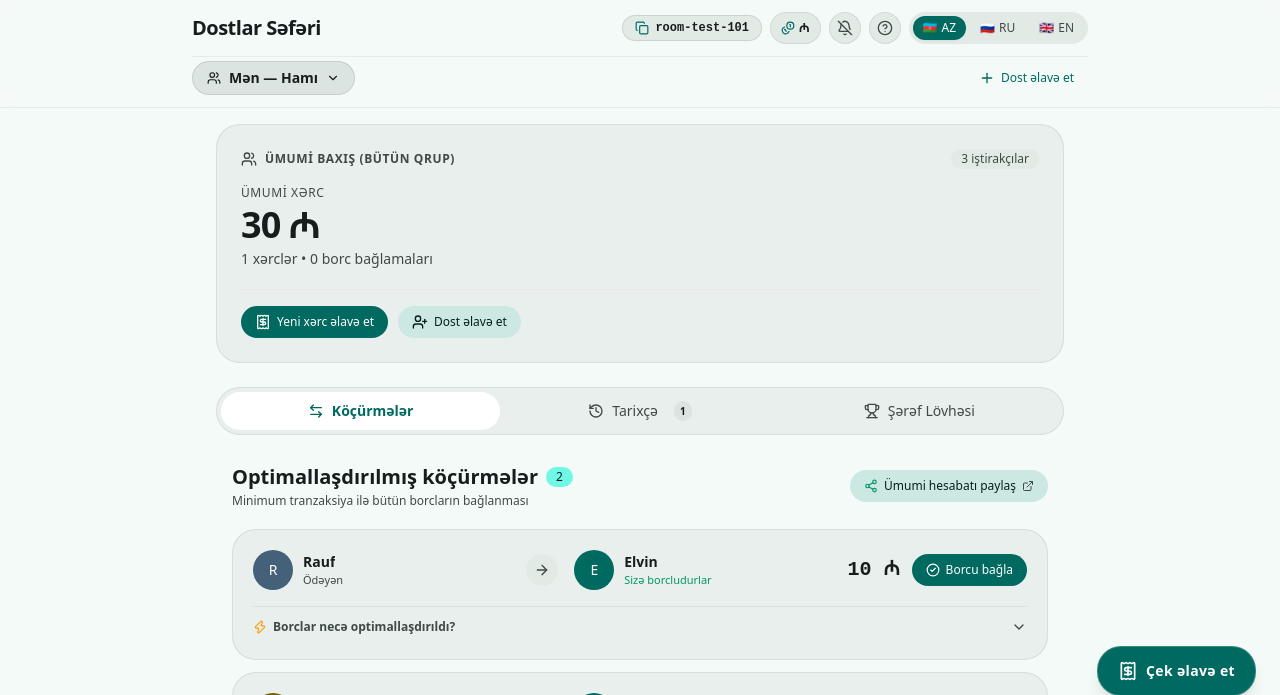
Scenario: App Integration › allows user profile switching from the Header menu
expect the button "Dostlar Səfəri" is shown: met, box top-left (192, 14), bottom-right (321, 42)
Note: Find profile switcher button: "Mən — Hamı" initially
Click the button "Mən — Hamı": point(274, 78) top-left (192, 61), bottom-right (355, 95)
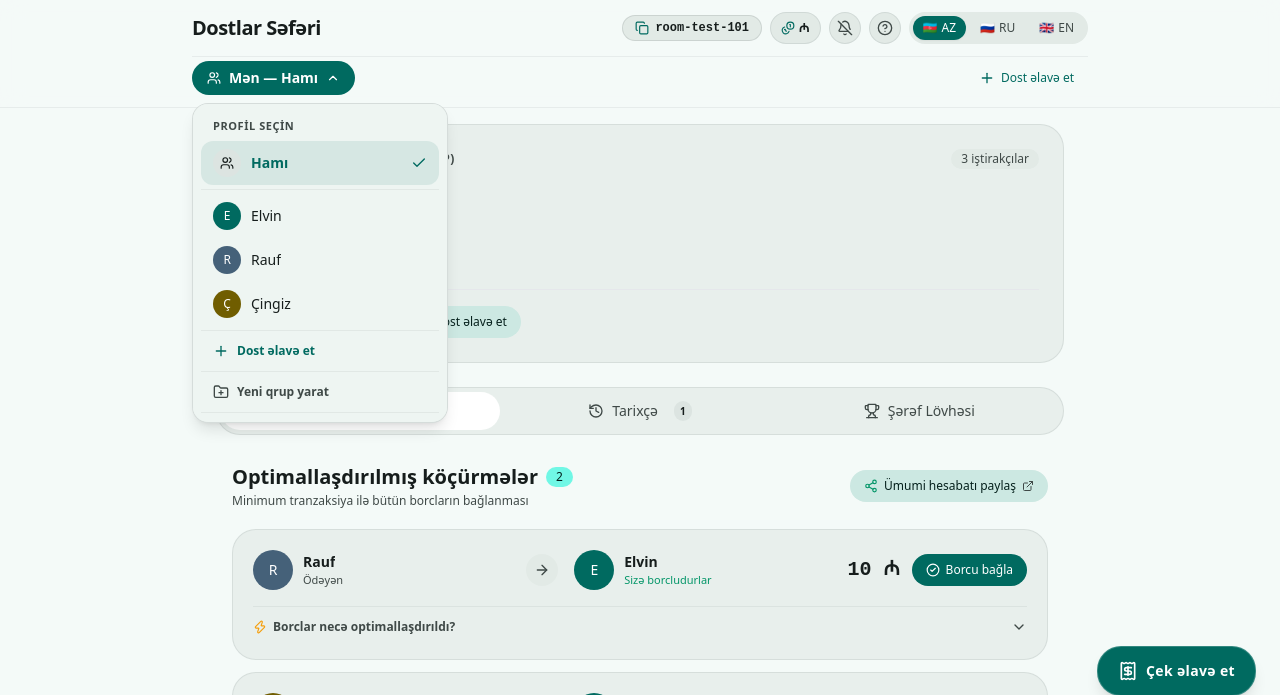
Note: Dropdown shows Elvin, Rauf, Çingiz
Click the menu item "E Elvin": point(320, 216) top-left (201, 194), bottom-right (439, 238)
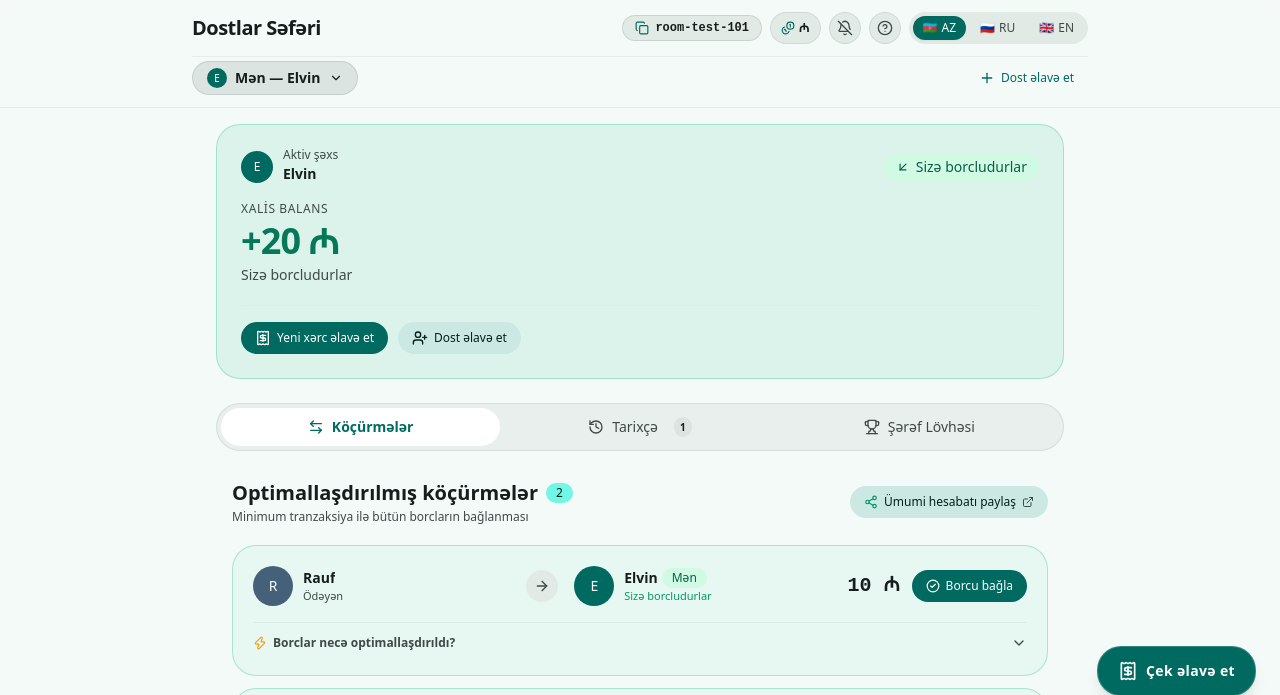
expect the button "E Mən — Elvin" is shown: met, box top-left (192, 61), bottom-right (358, 95)
expect the text "Aktiv şəxs" is shown: met, box top-left (283, 149), bottom-right (338, 161)
